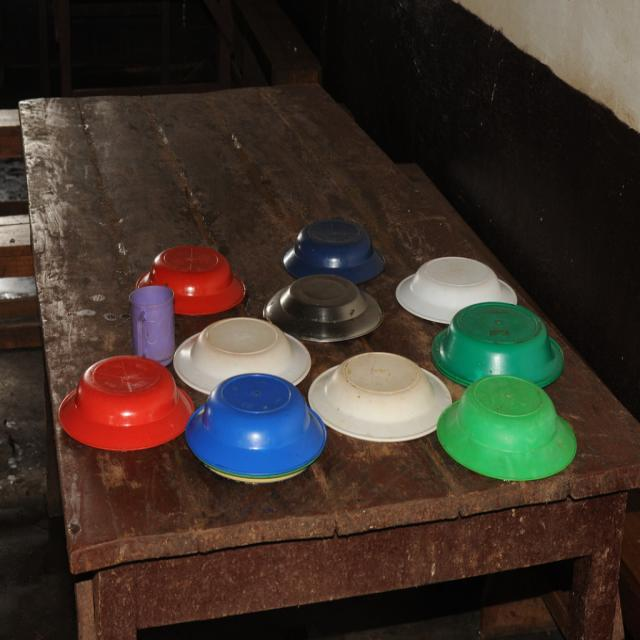non-organic waste: (424, 366, 606, 503), (178, 370, 335, 495), (55, 335, 214, 456), (248, 236, 391, 344), (116, 203, 246, 318), (407, 252, 524, 367), (432, 297, 574, 378), (179, 314, 304, 406), (90, 268, 198, 364), (306, 348, 434, 429), (286, 194, 391, 271)
